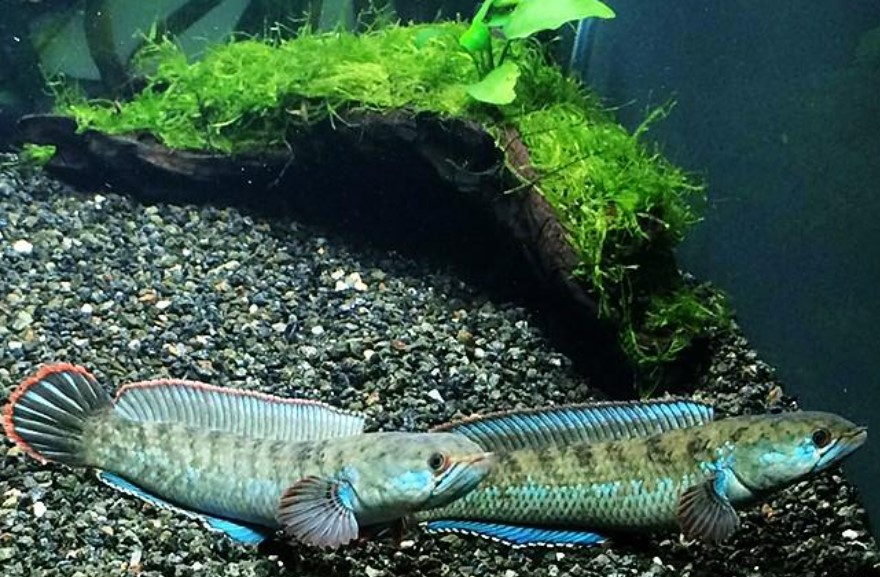Fish: (7, 344, 486, 566), (404, 383, 867, 556)
